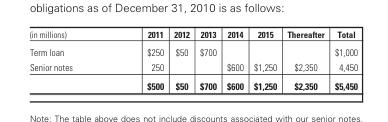table: (28, 28, 357, 91)
table column: (28, 28, 109, 91), (109, 28, 168, 91), (281, 28, 328, 91), (248, 28, 281, 91), (328, 28, 357, 91), (220, 28, 248, 91), (168, 28, 194, 91), (194, 28, 220, 91)
table column header: (28, 28, 357, 42)
table row: (28, 42, 357, 59), (28, 59, 357, 76), (28, 76, 357, 91), (28, 28, 357, 42)
